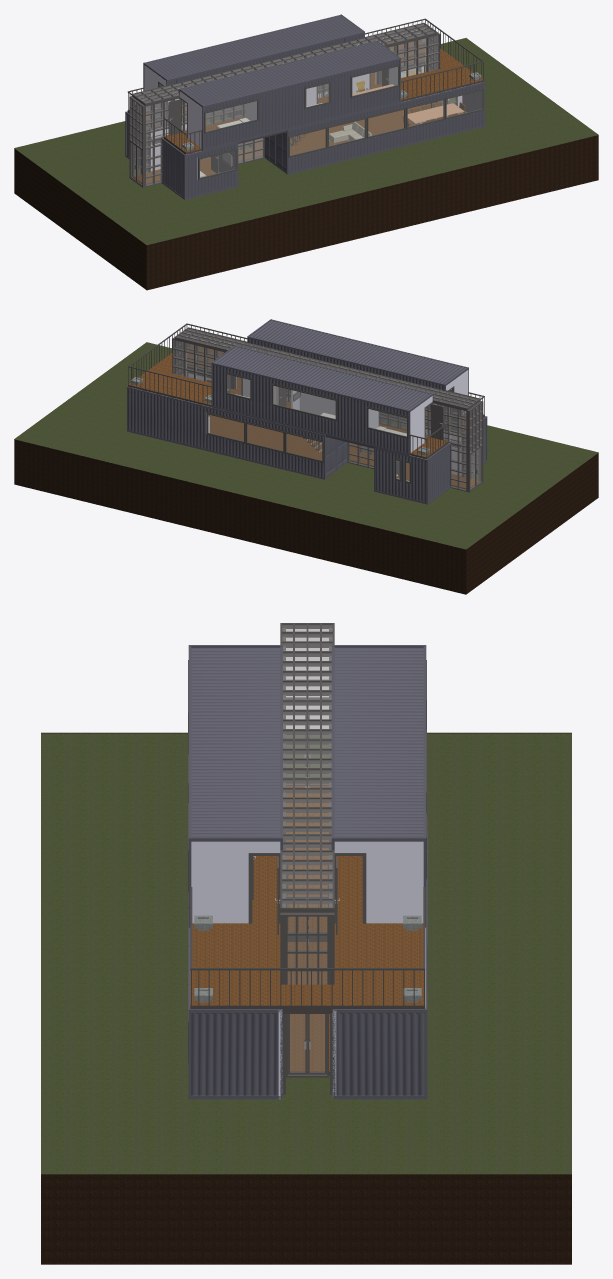
The model's file is container_home-v1.glb.
3 views of the same model, one above another, from view 1: azimuth 30°, elevation 25°; view 2: azimuth 150°, elevation 25°; view 3: azimuth 270°, elevation 25° (orthographic). The views are drawn at different scales.
Visible parts, largest first — view 1: Object_15, Object_11, Object_26, Object_14, Object_19, Object_3, Object_27, Object_17, Object_51, Object_16, Object_40, Object_50 (+3 smaller); view 2: Object_15, Object_11, Object_26, Object_27, Object_14, Object_19, Object_3, Object_51, Object_17, Object_16, Object_40, Object_46 (+1 smaller); view 3: Object_15, Object_11, Object_26, Object_3, Object_19, Object_14, Object_51, Object_27, Object_16, Object_43, Object_40, Object_46 (+1 smaller).
Part boxes in pixels (left/top/right/bottom): Object_15: left=14, top=38, right=598, bottom=244; Object_11: left=14, top=135, right=598, bottom=290; Object_26: left=126, top=39, right=485, bottom=199; Object_14: left=130, top=24, right=482, bottom=185; Object_19: left=129, top=22, right=457, bottom=187; Object_3: left=128, top=40, right=483, bottom=183; Object_27: left=125, top=14, right=364, bottom=172; Object_17: left=151, top=64, right=483, bottom=180; Object_51: left=144, top=48, right=462, bottom=179; Object_16: left=130, top=45, right=432, bottom=185; Object_40: left=128, top=20, right=483, bottom=152; Object_50: left=407, top=103, right=464, bottom=124; Object_15: left=14, top=342, right=598, bottom=549; Object_11: left=14, top=439, right=598, bottom=594; Object_26: left=127, top=319, right=487, bottom=487; Object_27: left=131, top=345, right=451, bottom=504; Object_14: left=173, top=328, right=481, bottom=490; Object_19: left=172, top=327, right=483, bottom=492; Object_3: left=129, top=345, right=484, bottom=488; Object_51: left=188, top=370, right=468, bottom=475; Object_17: left=188, top=371, right=460, bottom=483; Object_16: left=222, top=350, right=482, bottom=490; Object_40: left=128, top=325, right=484, bottom=457; Object_46: left=128, top=323, right=484, bottom=439; Object_15: left=41, top=732, right=571, bottom=1174; Object_11: left=41, top=733, right=571, bottom=1264; Object_26: left=188, top=645, right=427, bottom=1099; Object_3: left=190, top=786, right=425, bottom=1071; Object_19: left=280, top=623, right=334, bottom=1094; Object_14: left=282, top=625, right=332, bottom=1071; Object_51: left=191, top=841, right=425, bottom=1098; Object_27: left=331, top=645, right=426, bottom=927; Object_16: left=248, top=715, right=366, bottom=1074; Object_43: left=190, top=935, right=425, bottom=1075; Object_40: left=191, top=866, right=424, bottom=1005; Object_46: left=190, top=865, right=425, bottom=970.
Size of the model in its own units: 91.91 by 26.17 by 46.72.
Materials: 49 (14 with a texture image).
